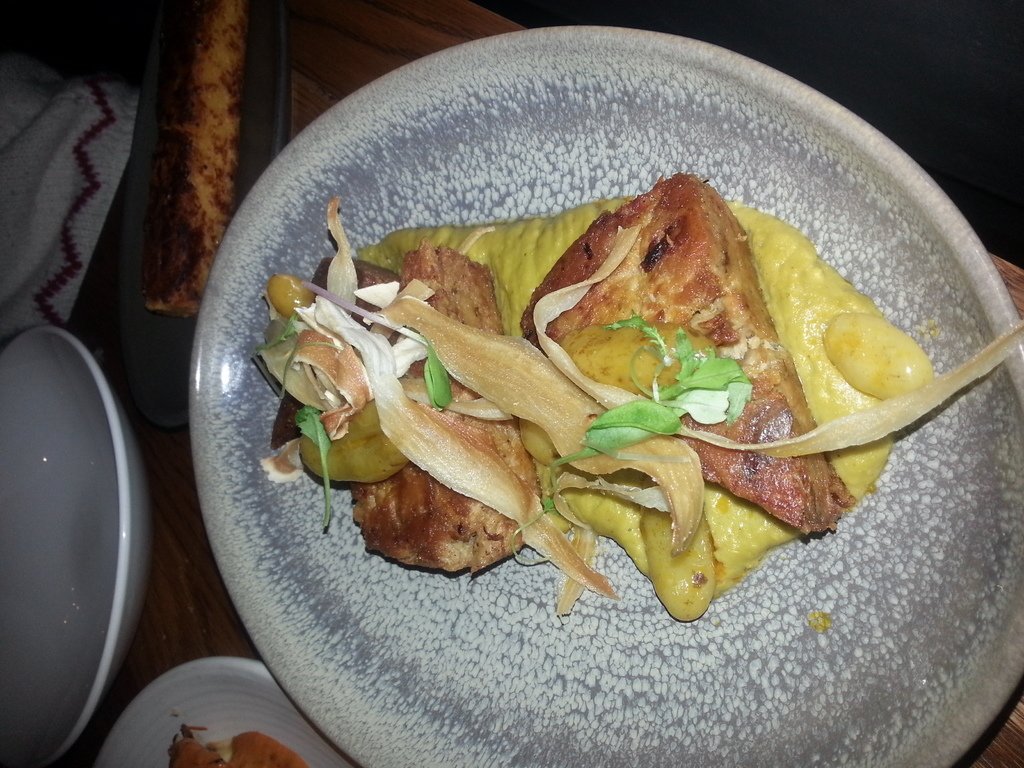plate: (1, 323, 160, 767)
